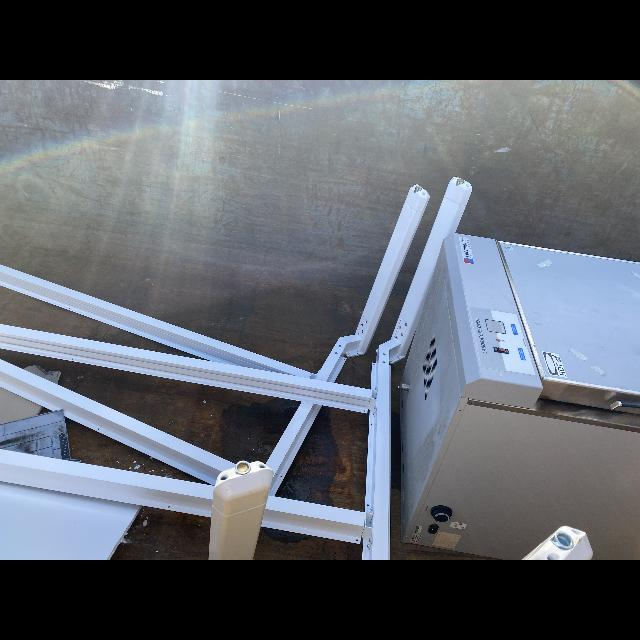Aluminium: (0, 177, 472, 560), (0, 359, 236, 486), (0, 449, 214, 517), (208, 461, 274, 560), (521, 526, 592, 560)
Ferrous Metal: (399, 233, 640, 560)
